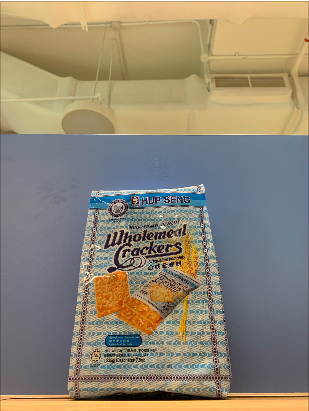Crackers_200-299g: (90, 197, 208, 370)
